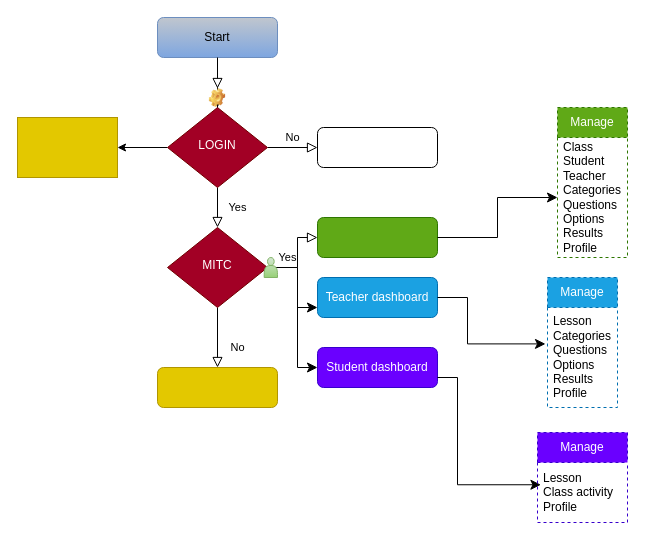
This 645x540 diagram has some shape labels left out. The shapes that lost their labels are listed below. From the top down, each one's centre as x and y in pixels, then its label:
the point at 67,147: Admin Teacher Student
the point at 377,147: Access denied
the point at 377,237: Admin dashboard
the point at 217,387: end
